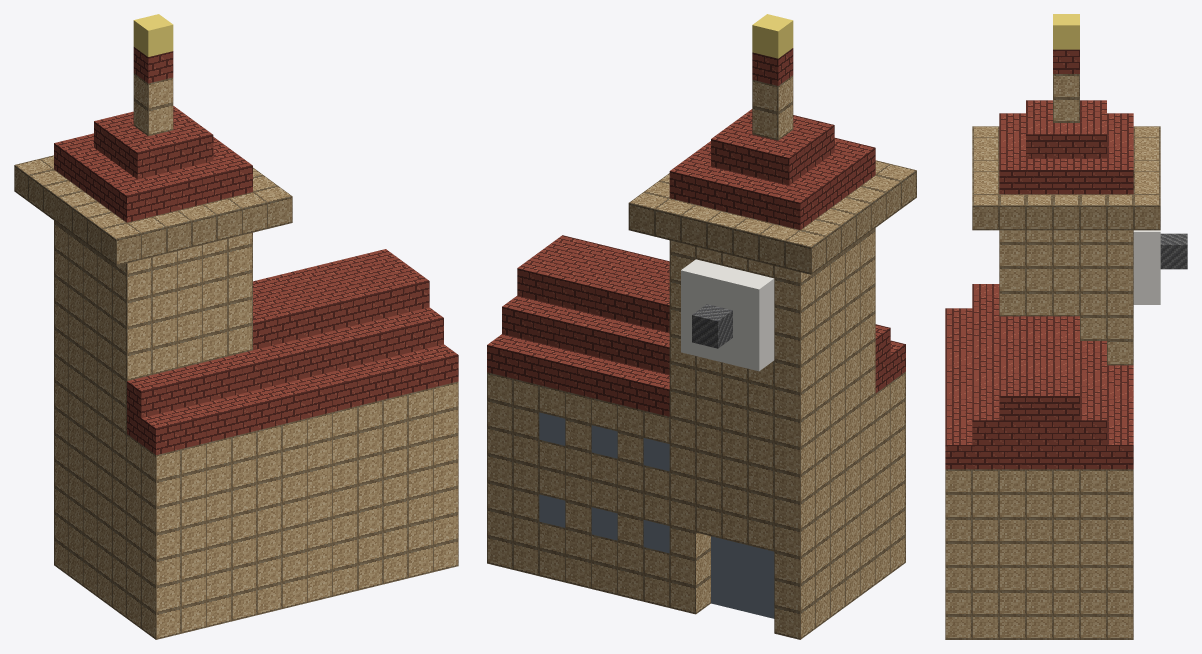
File: heiliggeistkirche.glb
3 views of the same model, side by side, from view 1: azimuth 30°, elevation 25°; view 2: azimuth 150°, elevation 25°; view 3: azimuth 270°, elevation 25° (orthographic). The views are drawn at different scales.
Parts seen in each view (by area): view 1: heiliggeistkirche; view 2: heiliggeistkirche; view 3: heiliggeistkirche.
Boxes of the visible parts, x1,y1,x2,y2 form: heiliggeistkirche: (14,14,458,639); heiliggeistkirche: (487,14,916,639); heiliggeistkirche: (945,14,1187,639).
Size of the model in its own units: 13 by 21 by 9.
1 material, 1 textured.
